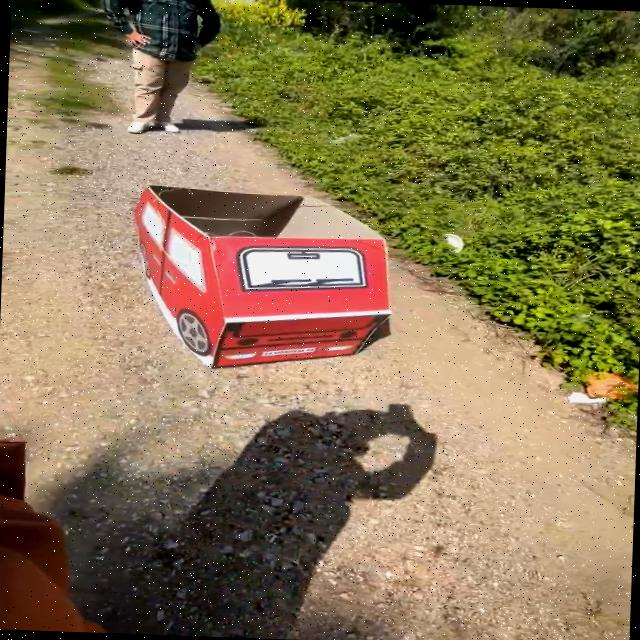red_car: (97, 178, 437, 387)
